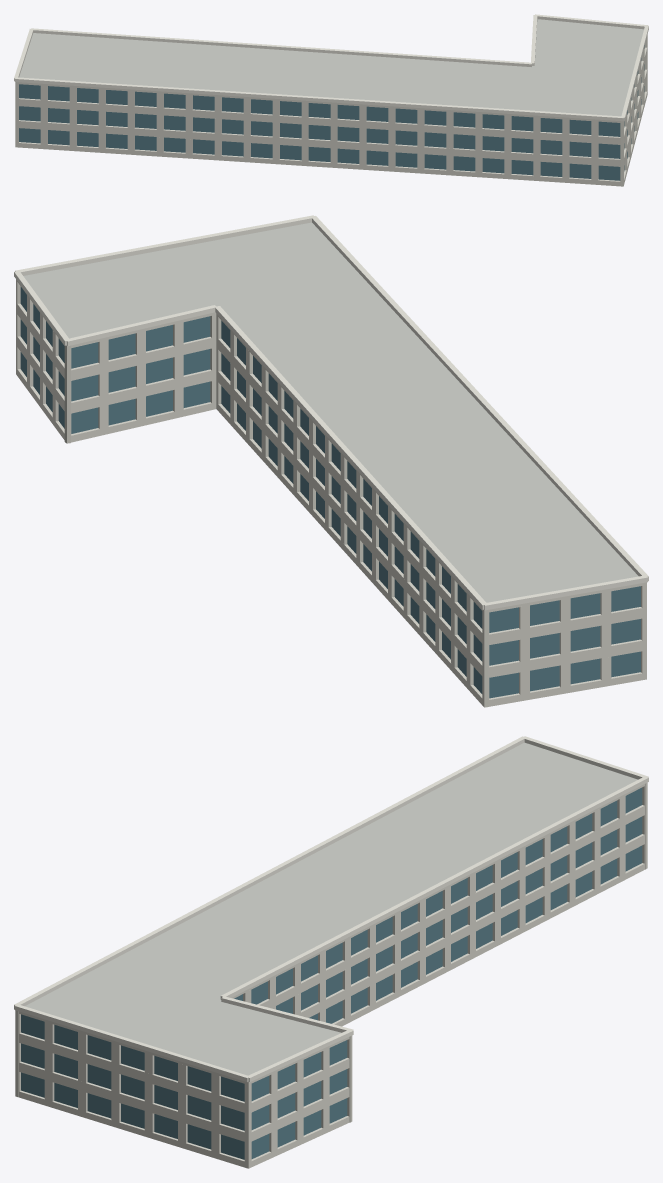
File: sb_1556523928.far.glb
3 renders of one model, top to bottom at view 1: azimuth 30°, elevation 25°; view 2: azimuth 150°, elevation 25°; view 3: azimuth 270°, elevation 25°, orthographic. The views are drawn at different scales.
Visible parts, largest first — view 1: roof, wall, glass, trim; view 2: roof, wall, glass, trim; view 3: roof, wall, glass, trim.
Part boxes in pixels (x1,y1,x2,y2): roof: (19, 19, 643, 116); wall: (15, 35, 647, 186); glass: (19, 45, 644, 180); trim: (14, 14, 648, 121); roof: (23, 222, 638, 602); wall: (16, 279, 646, 707); glass: (20, 286, 640, 698); trim: (14, 215, 648, 610); roof: (25, 742, 637, 1075); wall: (15, 782, 647, 1168); glass: (21, 787, 642, 1159); trim: (14, 736, 648, 1082).
Size of the model in its own units: 78.33 by 9.74 by 61.46.
